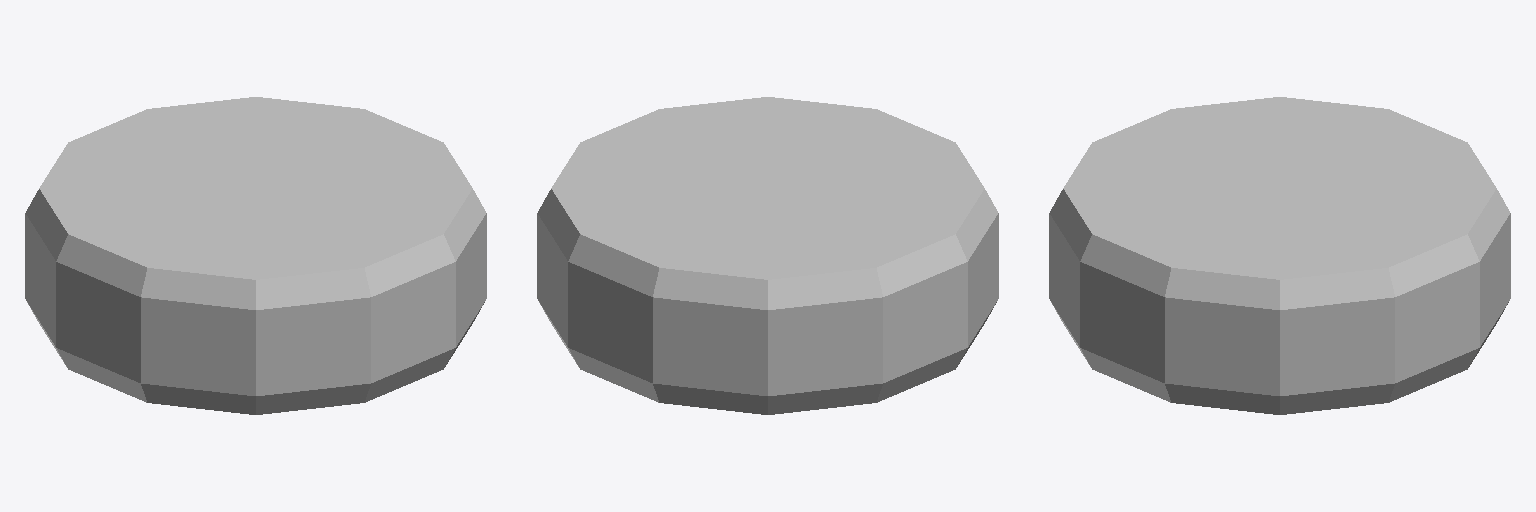
The model's file is cheese.obj.
3 renders of one model, left to right at view 1: azimuth 30°, elevation 25°; view 2: azimuth 150°, elevation 25°; view 3: azimuth 270°, elevation 25°, orthographic.
Visible parts, largest first — view 1: wedge; view 2: wedge; view 3: wedge.
Part boxes in pixels (left/top/right/bottom): wedge: left=25, top=97, right=486, bottom=414; wedge: left=537, top=97, right=998, bottom=414; wedge: left=1049, top=97, right=1510, bottom=414.
Bounding box in the file's own units: 0.68 × 0.22 × 0.68.